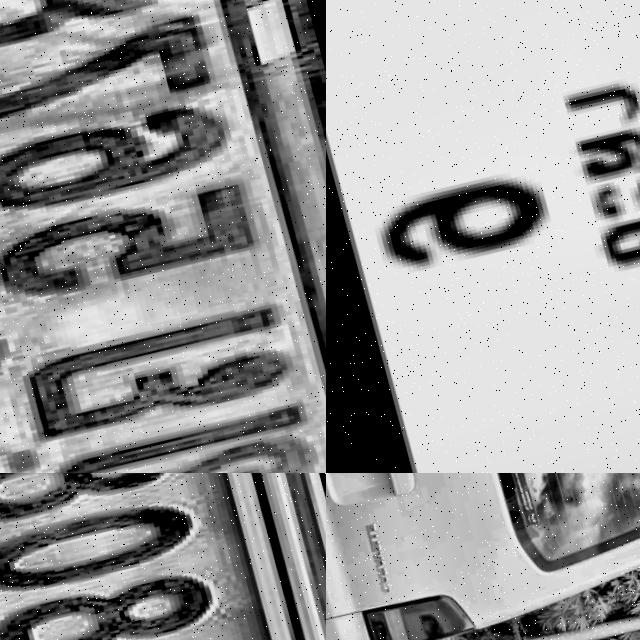license-plate: (0, 0, 326, 473), (326, 0, 640, 473), (0, 473, 326, 640)
